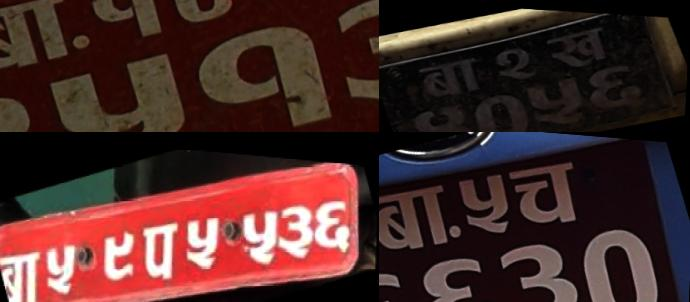0: (379, 169, 462, 263), (465, 84, 541, 132)
1: (178, 0, 348, 132), (75, 0, 173, 55)
2: (487, 40, 548, 86)
3: (315, 0, 379, 126), (264, 176, 326, 270)
4: (407, 240, 514, 302), (0, 67, 68, 132), (405, 96, 488, 132), (379, 255, 434, 302)
5: (37, 26, 216, 132), (173, 191, 237, 282), (230, 186, 294, 274), (520, 69, 598, 131), (36, 231, 95, 302)
6: (301, 170, 370, 264), (451, 161, 519, 241), (578, 53, 660, 116)
8: (152, 0, 244, 33)
9: (503, 144, 590, 234), (88, 219, 152, 297)
ba: (487, 222, 595, 302), (0, 0, 88, 92), (411, 49, 496, 106), (0, 241, 55, 302)
cha: (567, 208, 671, 302)
kha: (539, 16, 625, 75)
pa: (133, 206, 195, 289)
